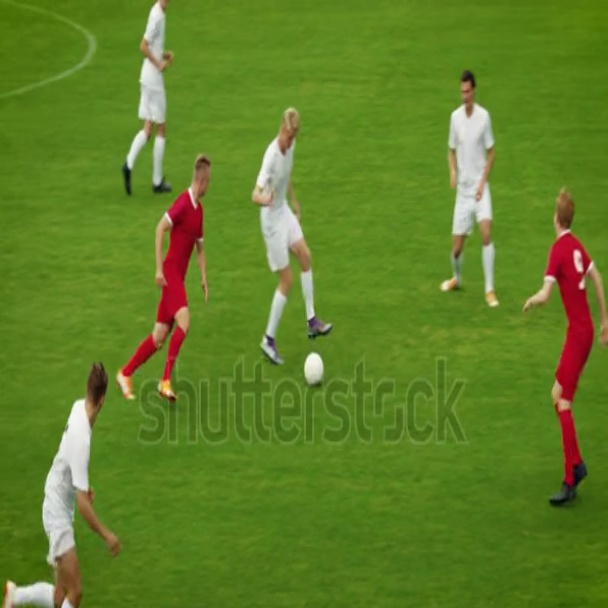ball: (299, 347, 329, 393)
